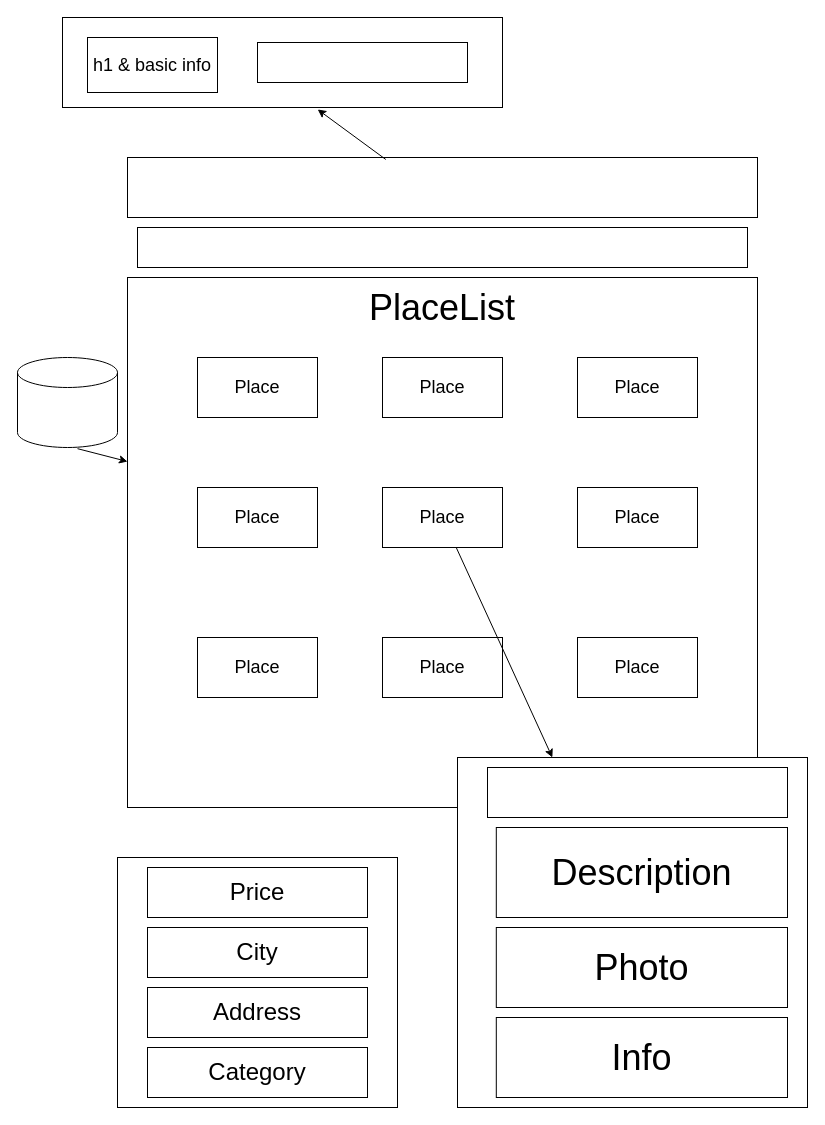
Image size: 825x1125. Some labels were removed from this diagram. Each missing label, with the centre of its shape:
"database.json" goes at (x=67, y=402).
"Filter" goes at (x=442, y=247).
"Header" goes at (x=442, y=187).
"Routing links" goes at (x=362, y=62).
"Title" goes at (x=637, y=792).
